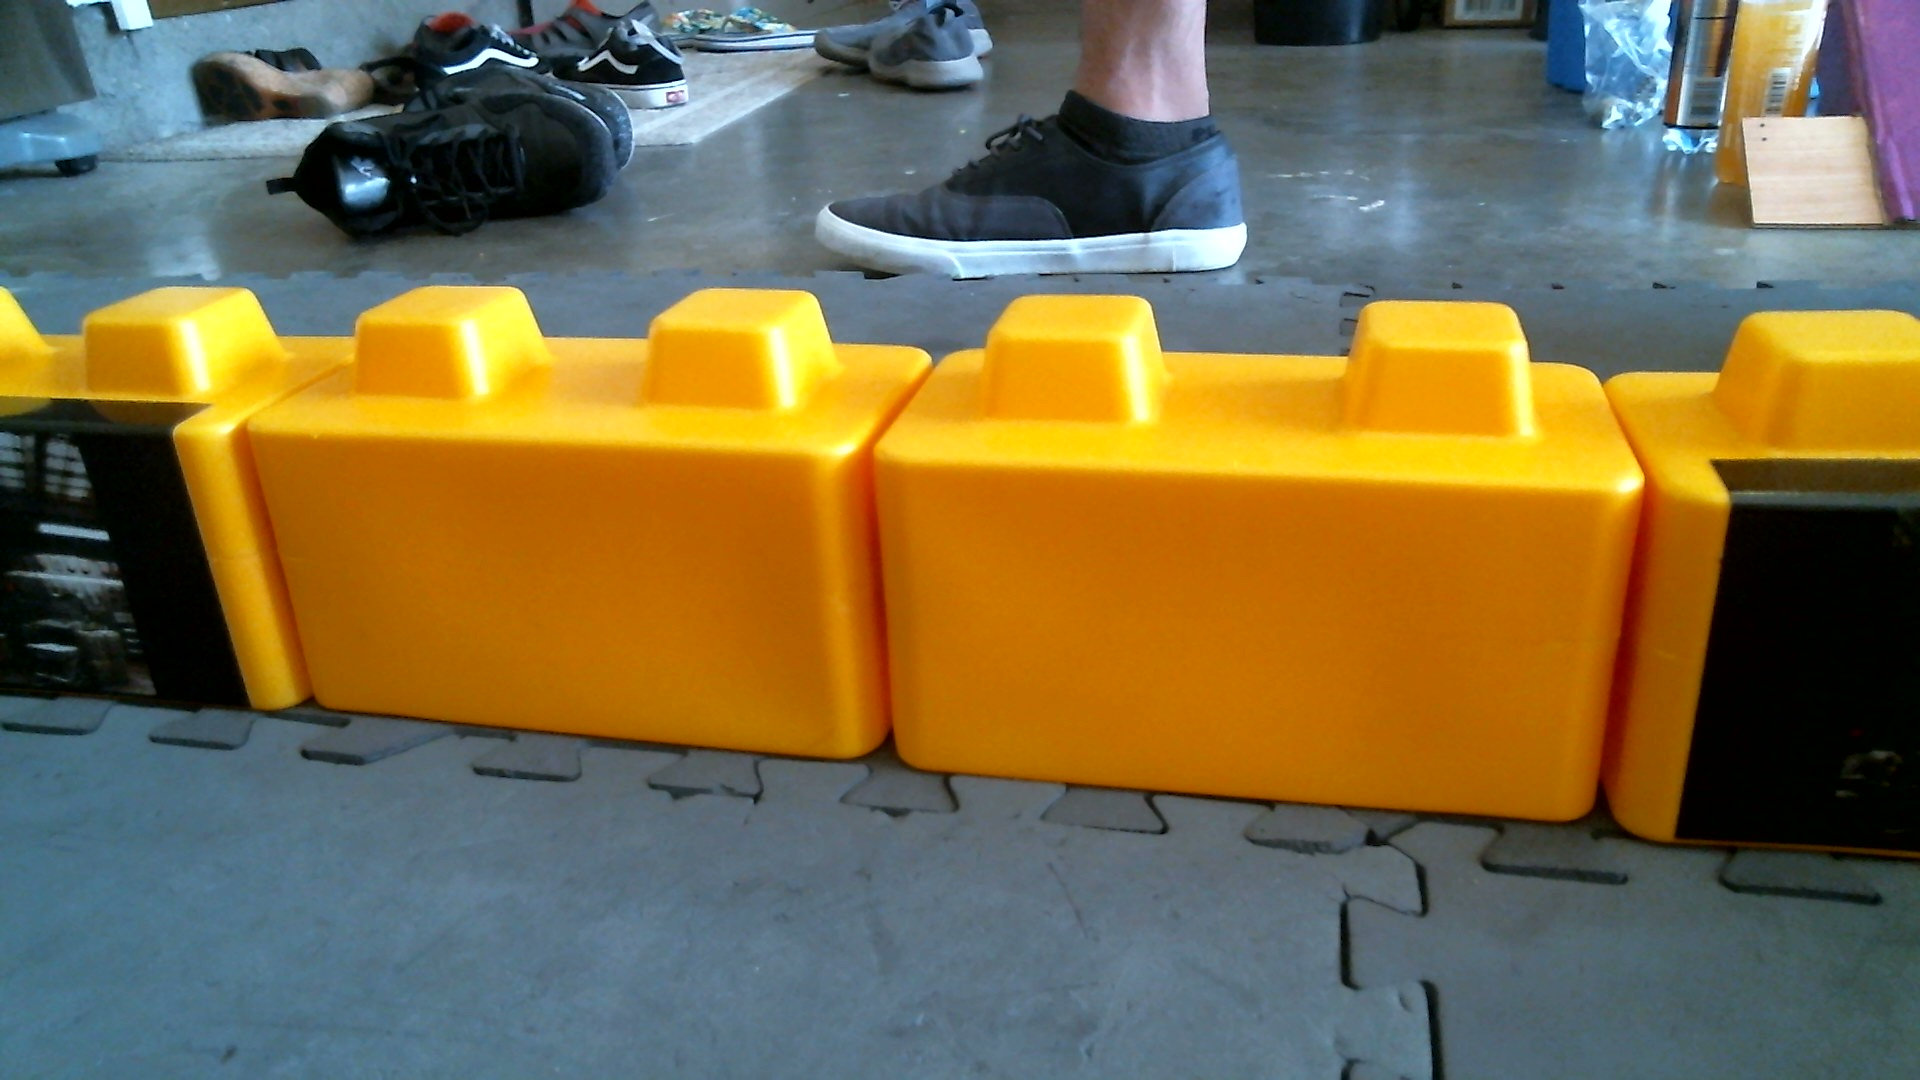skystone: (1642, 306, 1920, 862), (1, 270, 306, 723)
stone: (898, 301, 1639, 836), (262, 286, 910, 773)
